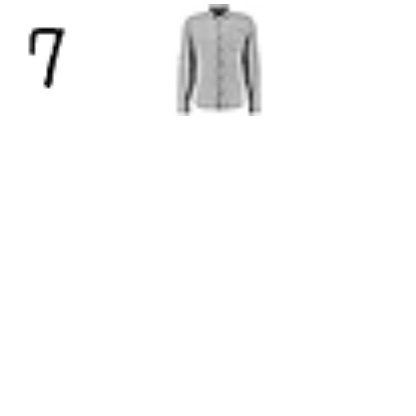7: (5, 7, 89, 91)
Shirt: (161, 4, 273, 116)
